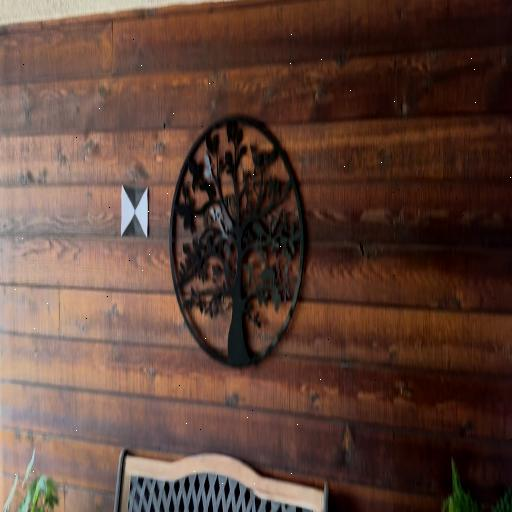target: (122, 184, 148, 237)
